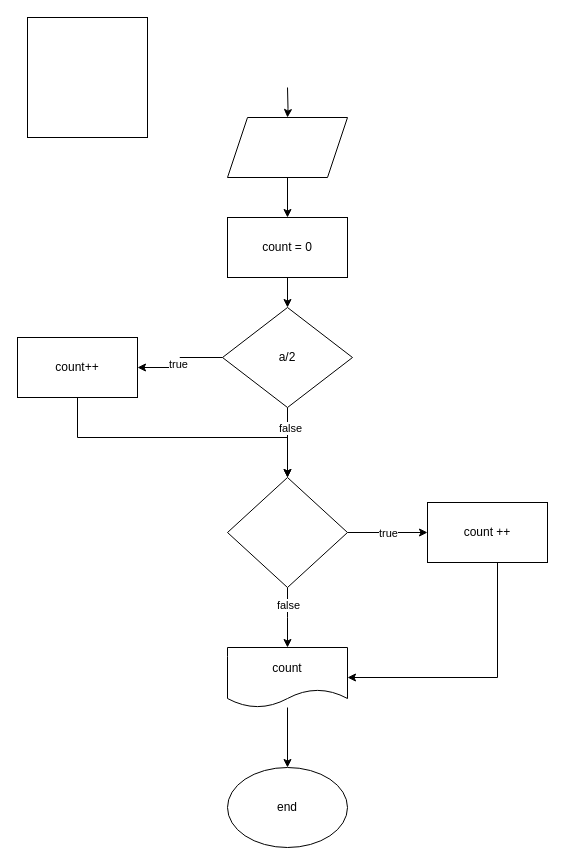
The diagram is 565 pixels wide and 865 high, and some of its shapes have lost their labels. Each missing label, with the centre of its shape:
"a,b,c, count" goes at point (287, 147).
"b/2" goes at point (287, 532).
"Verilmiş 3 ədəddən neçəsinin cut olduğunu tapan alqoritim" goes at point (87, 77).
